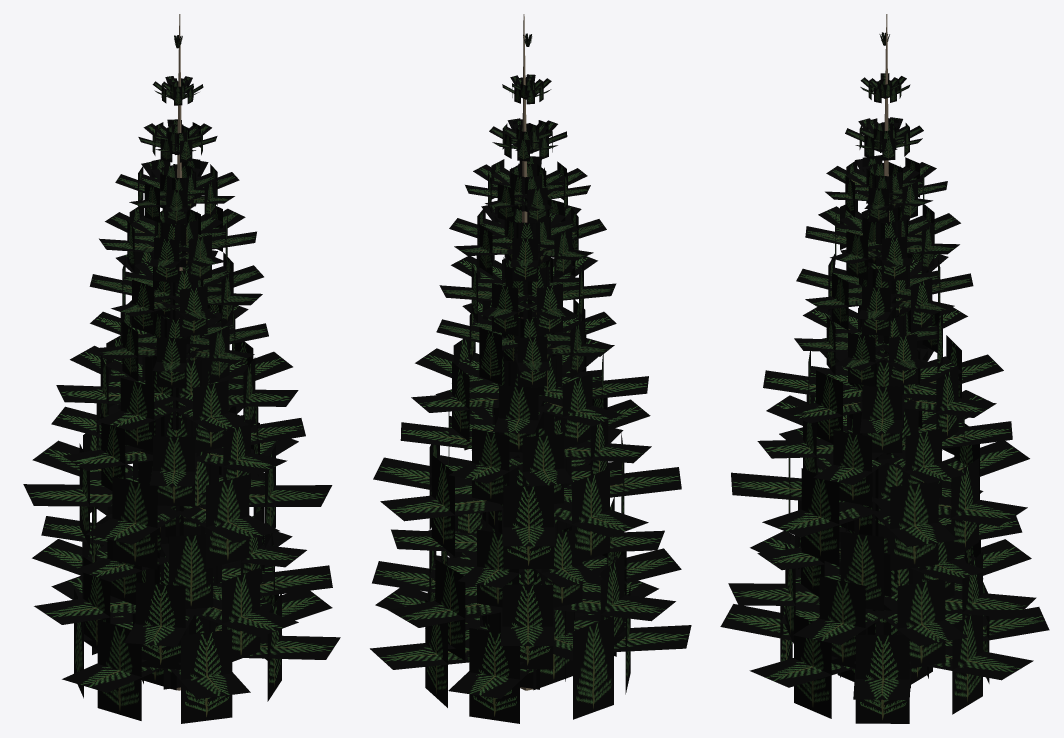
Rendered from Spruce_1_LOD1.glb.
3 renders of one model, left to right at view 1: azimuth 30°, elevation 25°; view 2: azimuth 150°, elevation 25°; view 3: azimuth 270°, elevation 25°, orthographic.
Parts seen in each view (by area): view 1: Spruce_1_LOD1; view 2: Spruce_1_LOD1; view 3: Spruce_1_LOD1.
Boxes of the visible parts, x1=… form: Spruce_1_LOD1: x1=23, y1=14, x2=340, y2=723; Spruce_1_LOD1: x1=370, y1=14, x2=691, y2=723; Spruce_1_LOD1: x1=720, y1=14, x2=1049, y2=723.
Bounding box in the file's own units: 9.81 × 22.47 × 9.93.
Materials: 2 (1 with a texture image).
